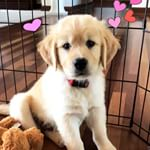puppy: (25, 13, 124, 150)
